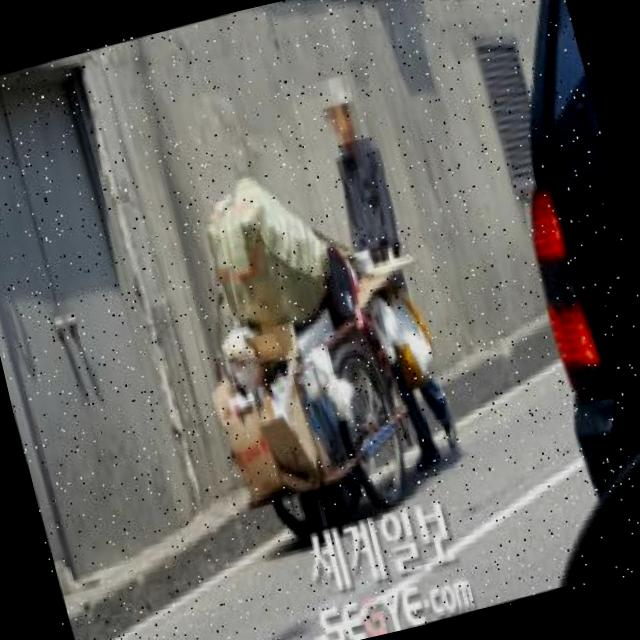Person: (312, 71, 464, 482)
